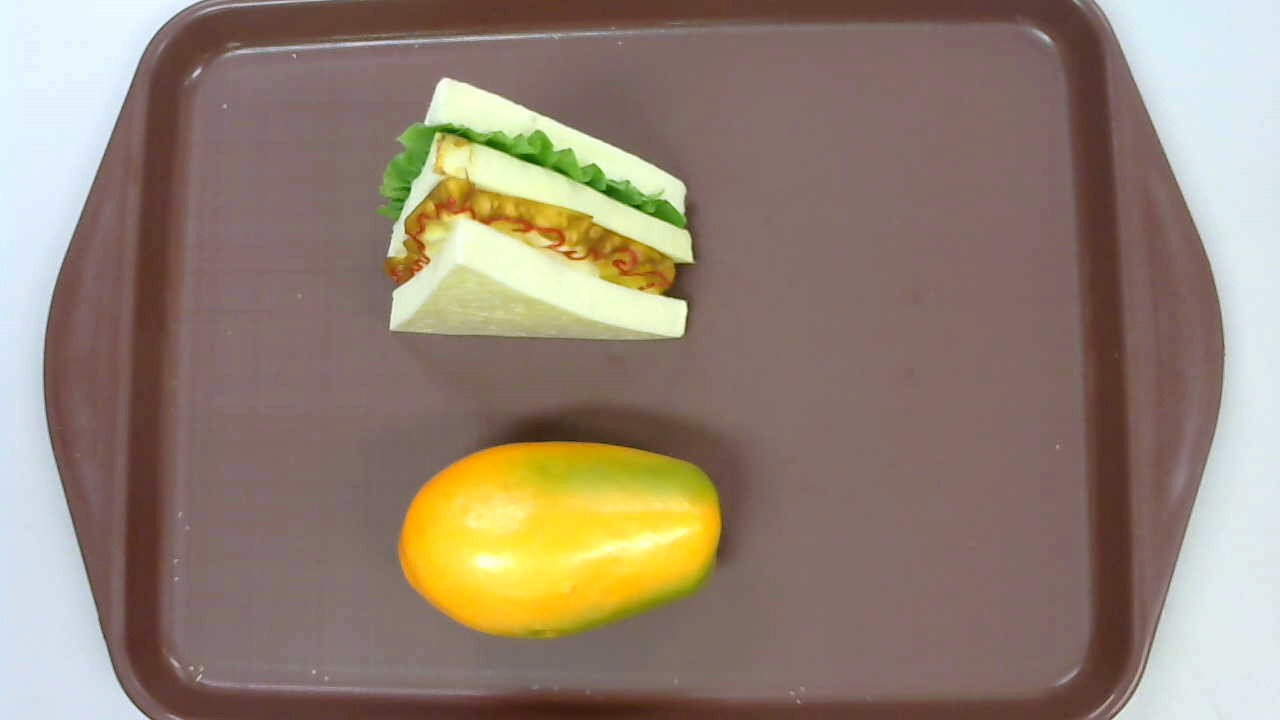papaya: (399, 440, 722, 639)
sandwich: (378, 76, 697, 341)
